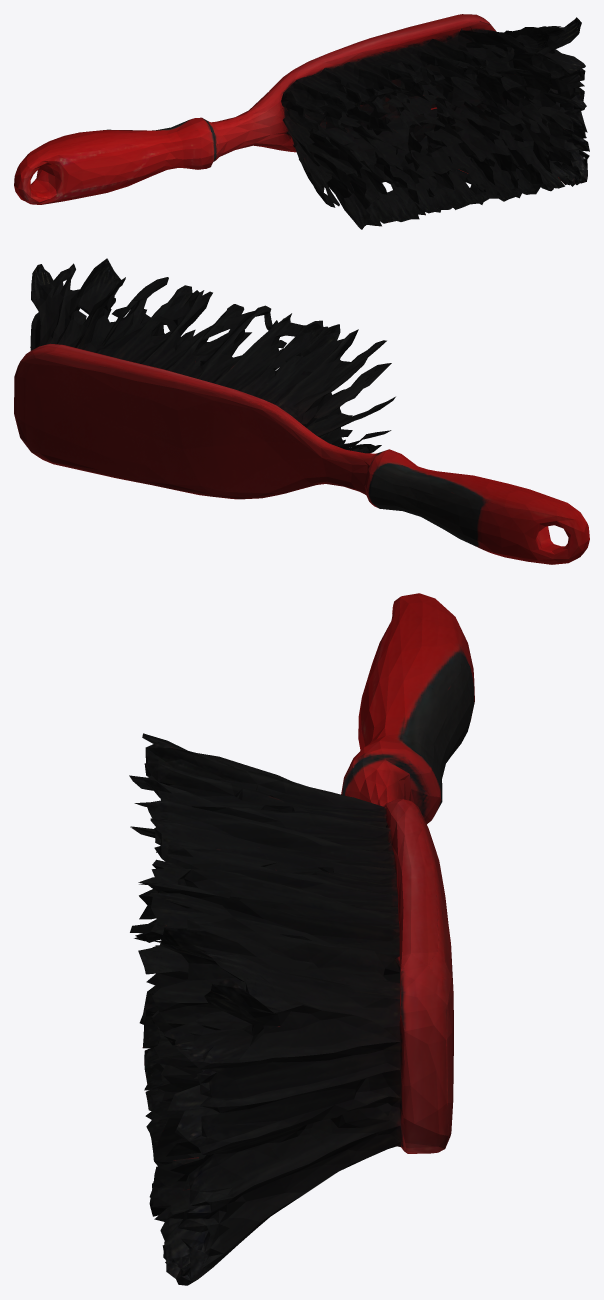
File: red_brush.glb
3 renders of one model, top to bottom at view 1: azimuth 30°, elevation 25°; view 2: azimuth 150°, elevation 25°; view 3: azimuth 270°, elevation 25°, orthographic. The views are drawn at different scales.
Visible parts, largest first — view 1: red_brush_visual0_0; view 2: red_brush_visual0_0; view 3: red_brush_visual0_0.
Boxes of the visible parts, x1,y1,x2,y2 form: red_brush_visual0_0: (14,14,589,229); red_brush_visual0_0: (14,258,589,564); red_brush_visual0_0: (129,593,474,1285).
Bounding box in the file's own units: 0.3191 × 0.095 × 0.0926.
1 material, 1 textured.
